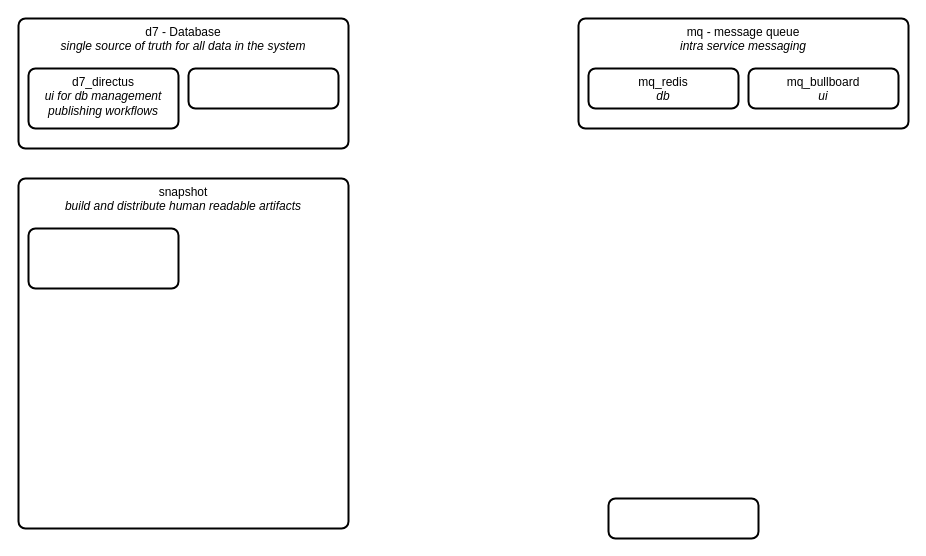
Some shapes in this 926 by 556 pixel diagram are drawn without their labels. Here are the shapes that lost their labels. From the top down, the box of each, then its label:
(187, 67, 339, 109): d7_postgres db
(27, 227, 179, 289): AWS S3 stores html guides for public access
(607, 497, 759, 539): Libretranslate text translation service
